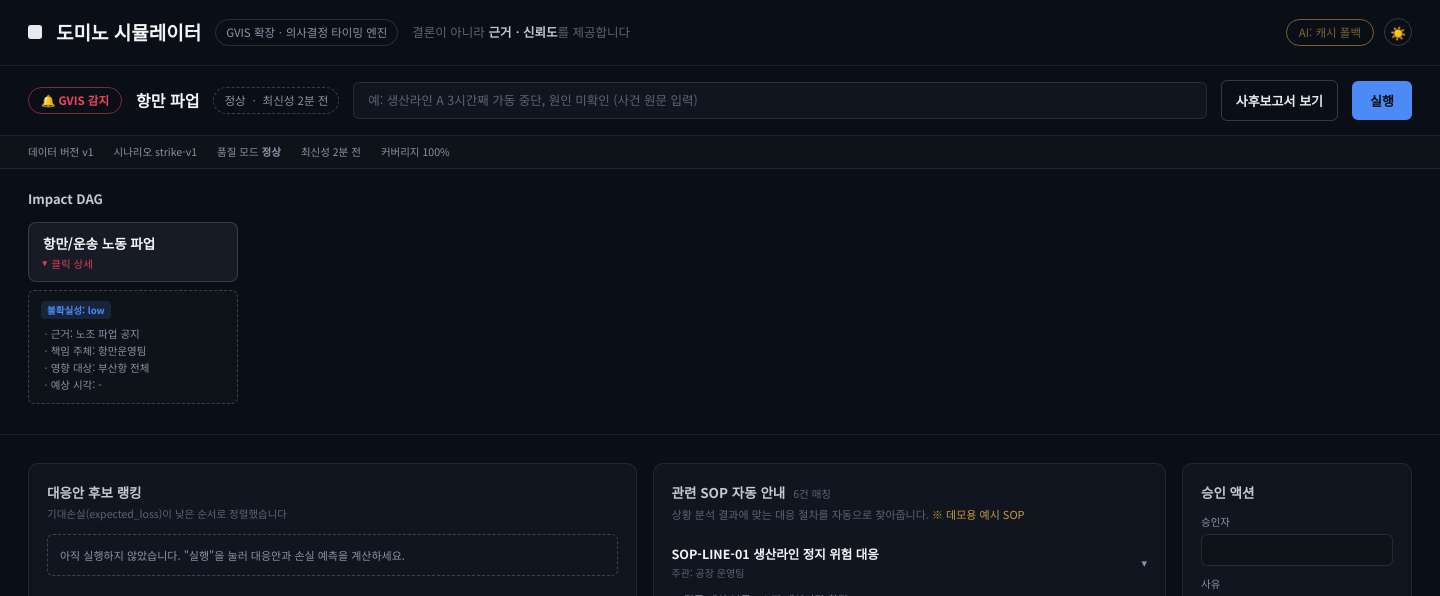
Scenario: IncidentDetailPage — 예외 케이스 › '실행' 이후 대응안 후보 재조회가 실패하면 재시뮬레이션 실패 문구를 보여주고 버튼 라벨은 '실행'으로 유지한다
This screenshot has width=1440, height=596.
Expected: the text "항만 파업" is shown, [136,88,199,112]
Click the button "실행". click: (1382,100)
box: [1352,80,1412,120]
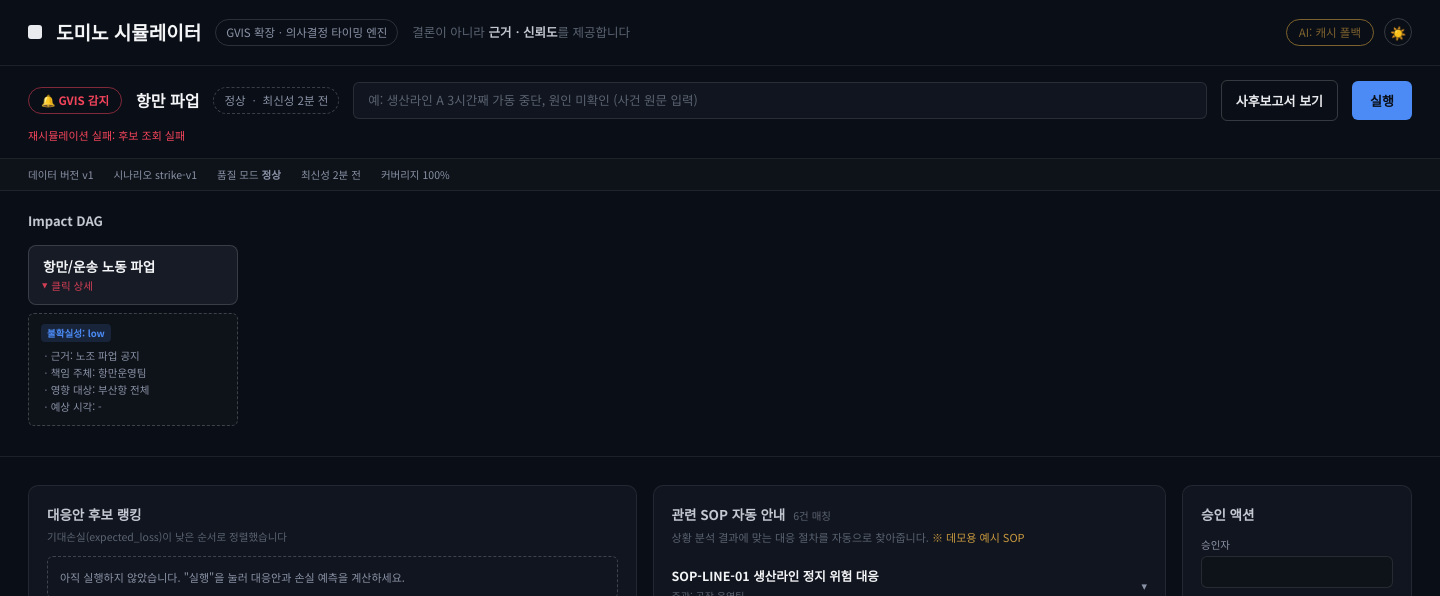
Expected: the text "재시뮬레이션 실패: 후보 조회 실패" is shown, [28,127,185,143]
